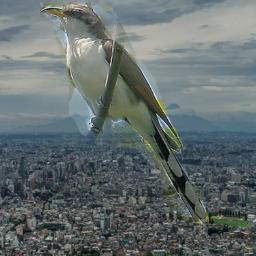Cuckoo: (40, 2, 209, 225)
